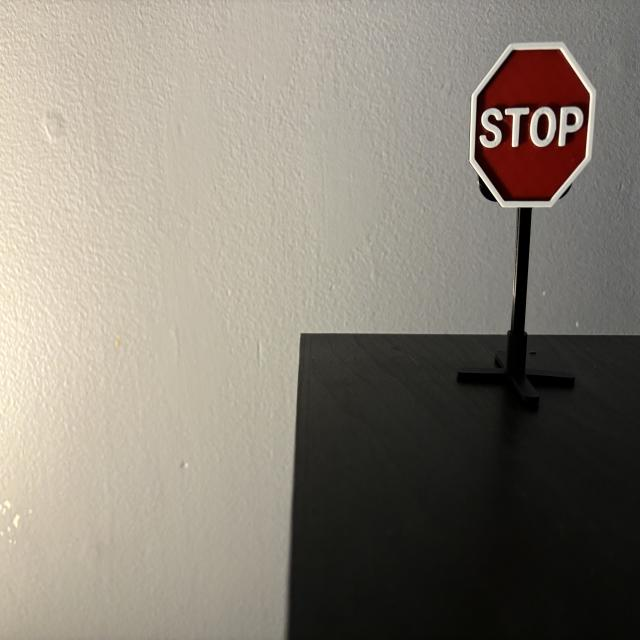sign_stop: (471, 43, 597, 209)
